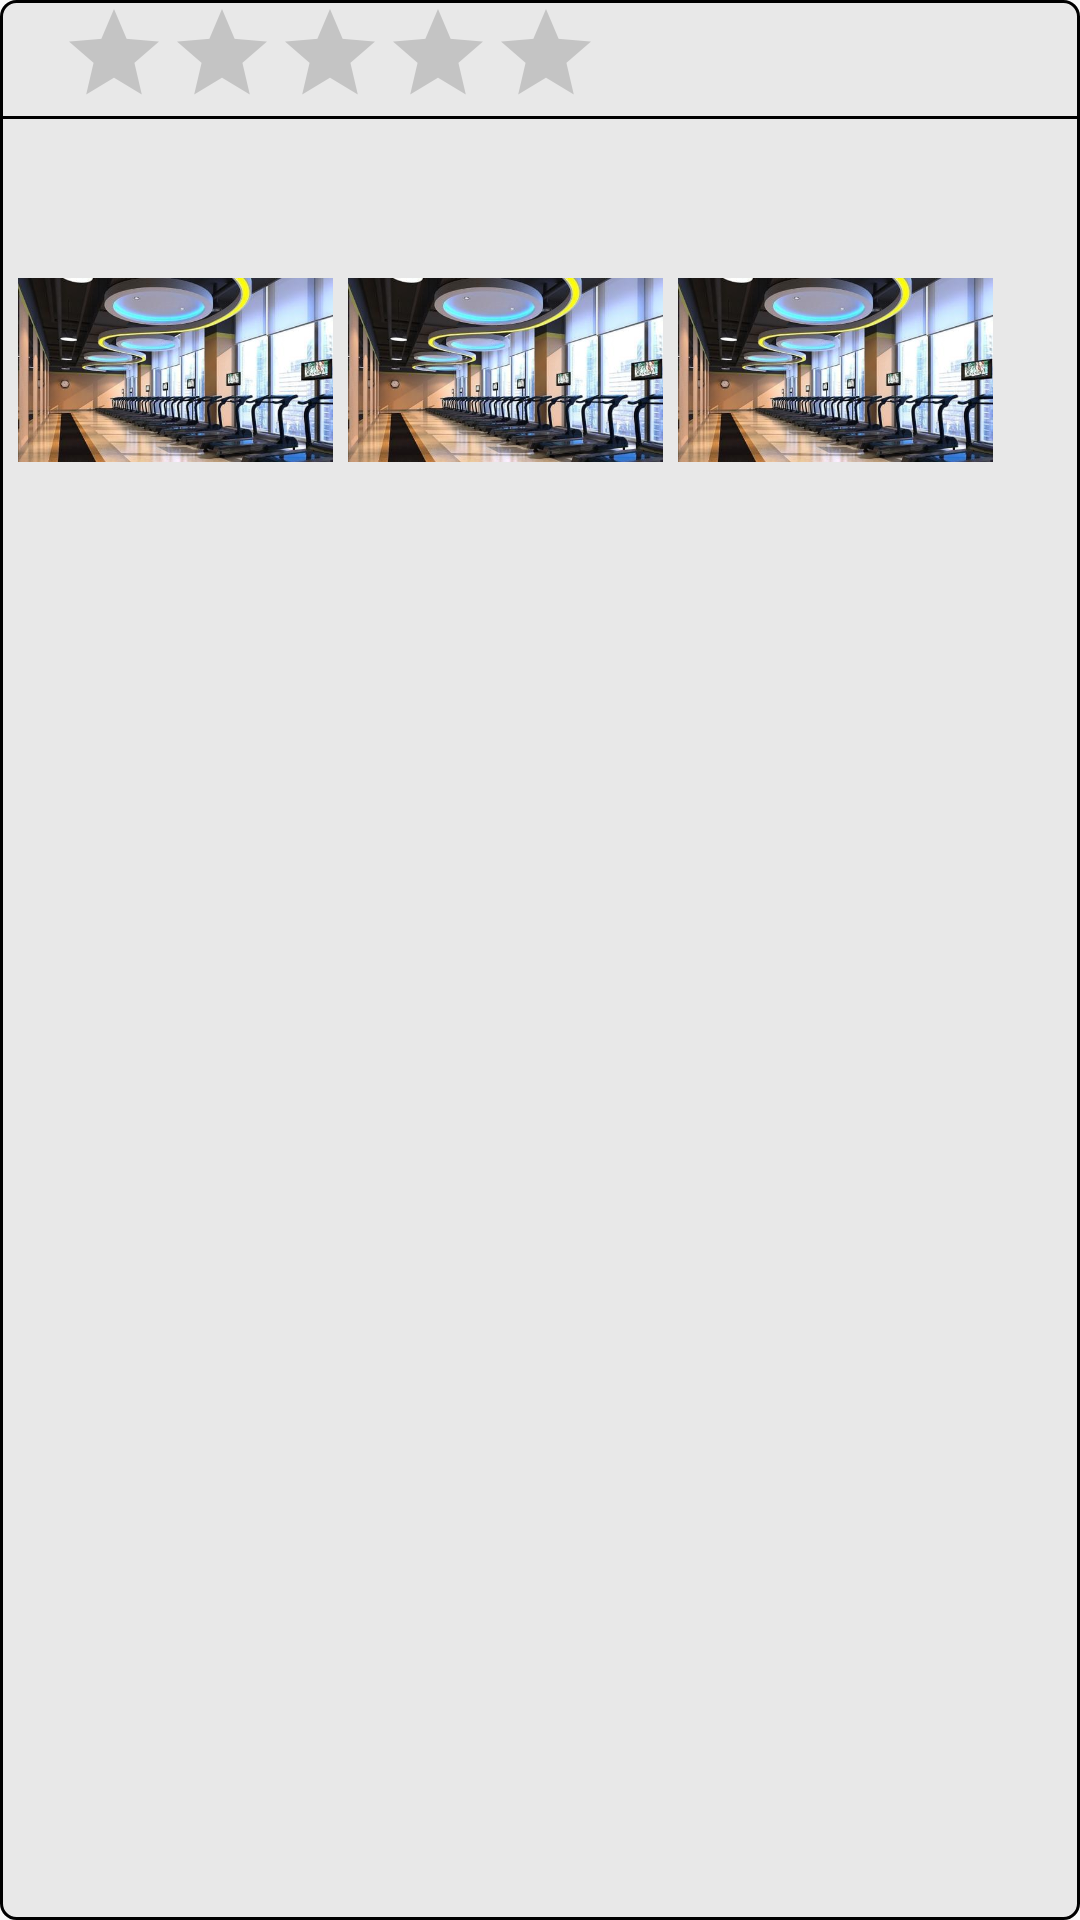

Named icons in this screenshot (1080w x 1920h) and their centers, (x=x, y=y):
gym: (x=175, y=370), (x=505, y=370), (x=835, y=370)
